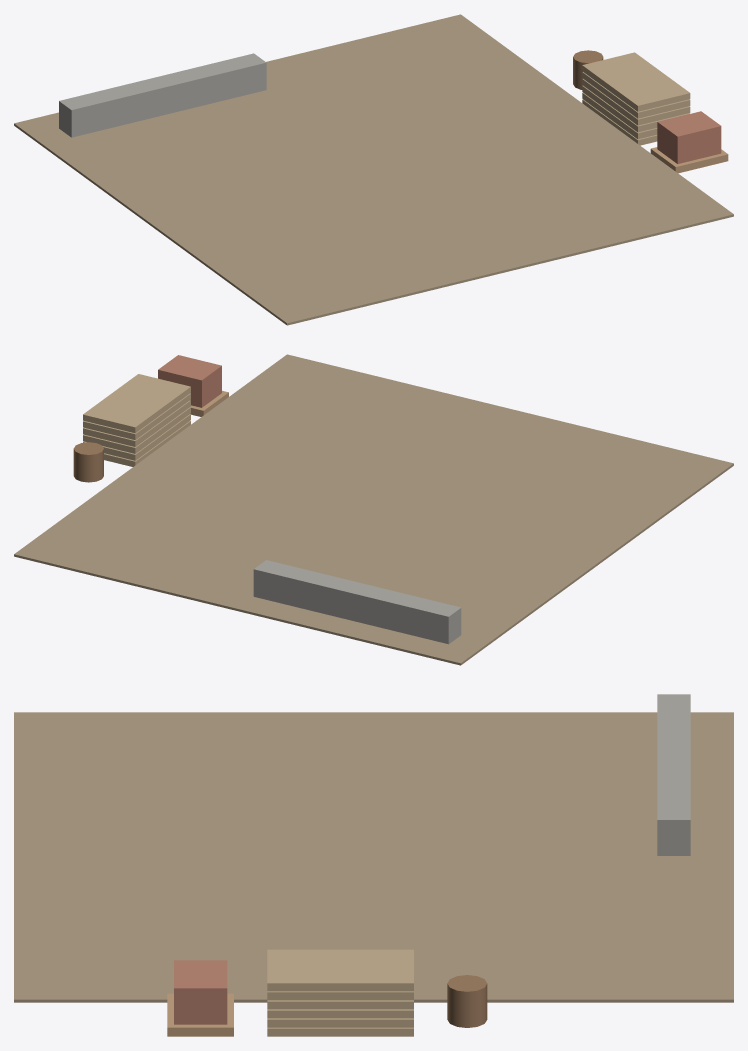
Rendered from bakery_site_1.glb.
3 views of the same model, one above another, from view 1: azimuth 30°, elevation 25°; view 2: azimuth 150°, elevation 25°; view 3: azimuth 270°, elevation 25° (orthographic). The views are drawn at different scales.
Parts seen in each view (by area): view 1: body; view 2: body; view 3: body.
Boxes of the visible parts, x1,y1,x2,y2 form: body: (14, 14, 733, 325); body: (14, 354, 733, 665); body: (14, 694, 733, 1036).
Size of the model in its own units: 2.28 by 0.176 by 2.16.
